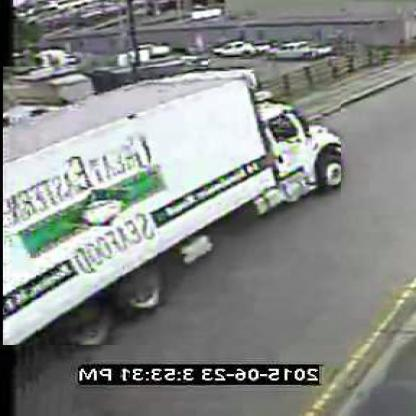truck: (2, 68, 342, 347)
